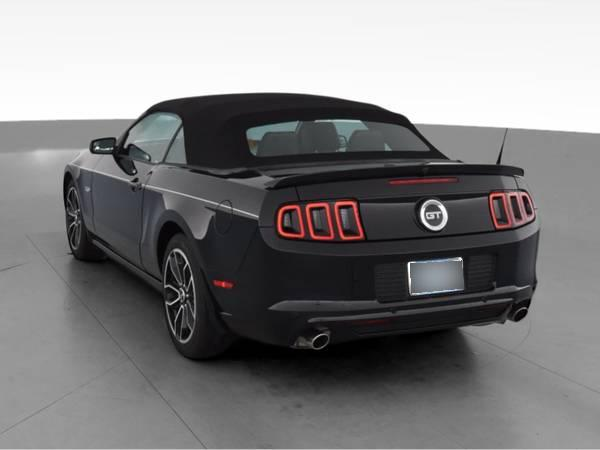Front_Fender: (62, 147, 106, 243)
Front_Left_Door: (92, 148, 156, 283)
Front_Left_Window: (112, 111, 181, 165)
Left_Taillight: (274, 200, 364, 244)
Rear_Bumper: (203, 215, 540, 346)
Rear_Fender: (139, 123, 299, 287)
Rear_Windshield: (250, 120, 436, 165)
Right_Taillight: (490, 189, 539, 230)
Roof: (116, 90, 448, 170)
Tailgate: (256, 157, 533, 242)
Wheel: (159, 235, 236, 358), (64, 186, 88, 259)
